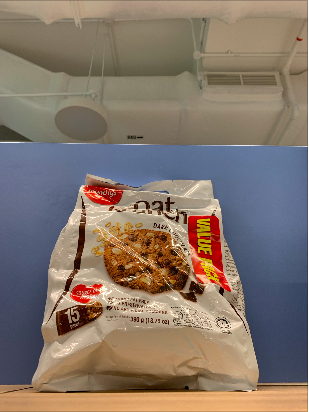Cookies_300-399g: (73, 192, 236, 343)
